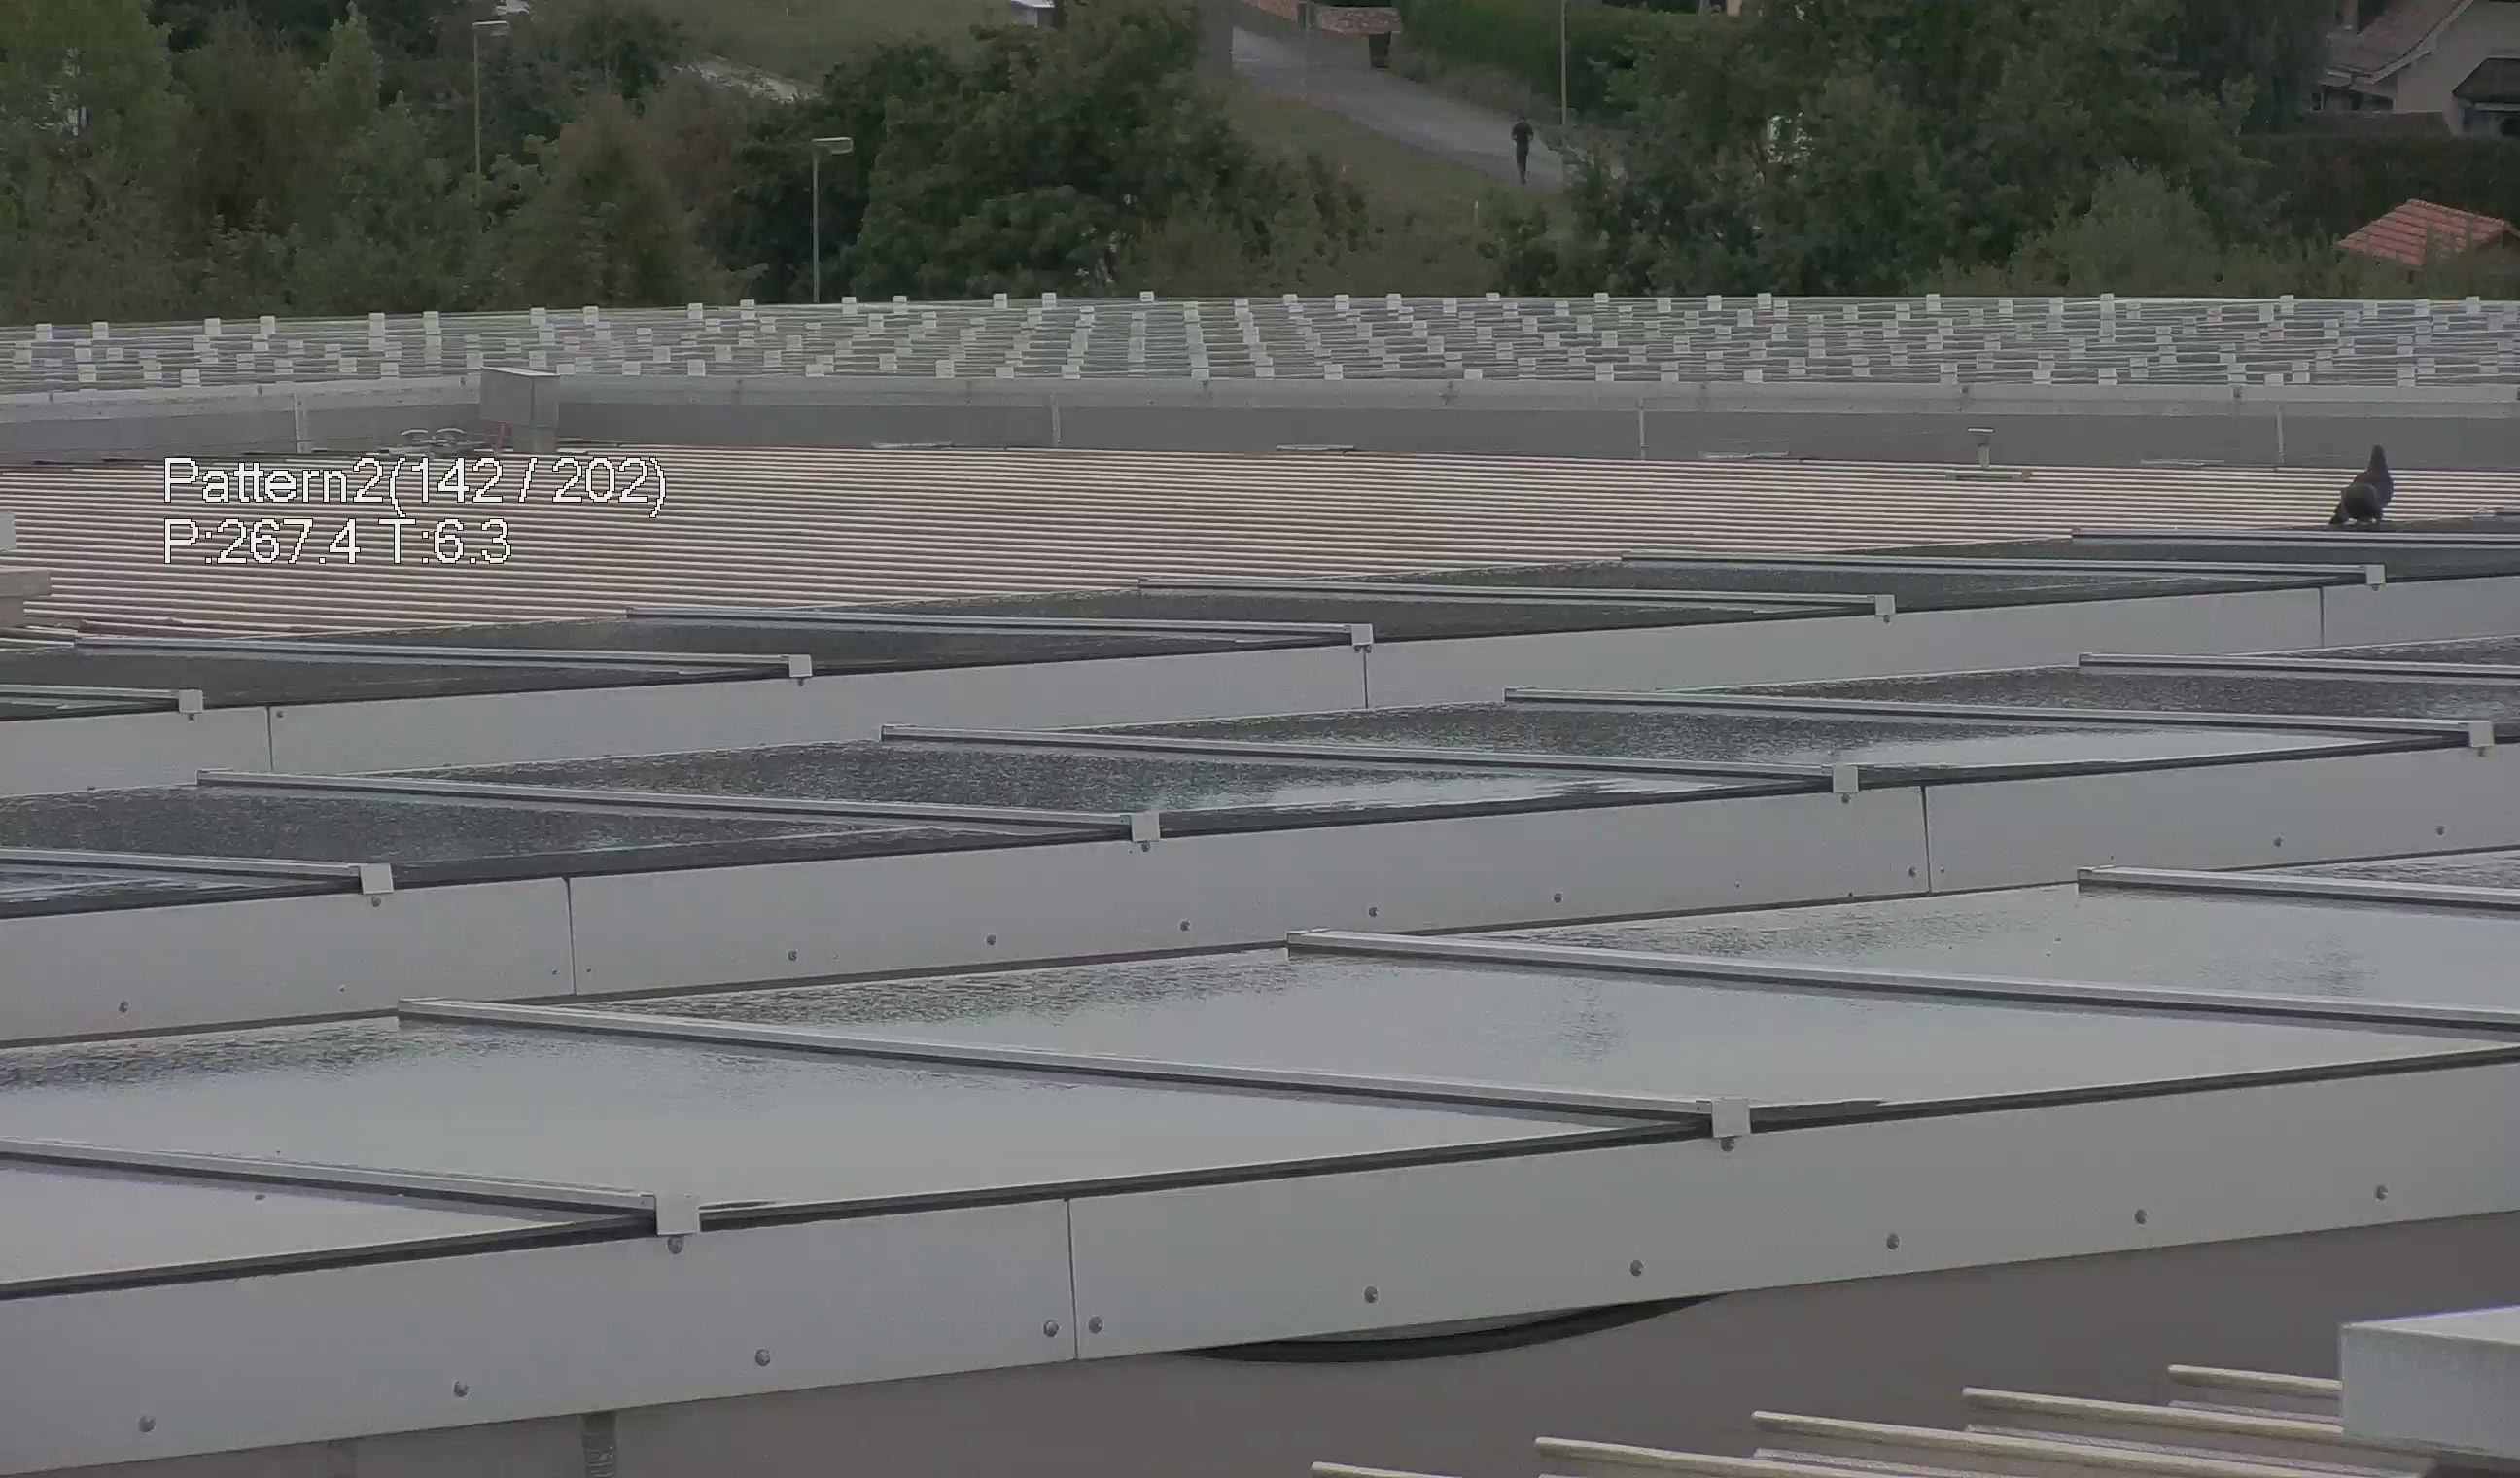Pigeon: (2330, 431, 2411, 533)
